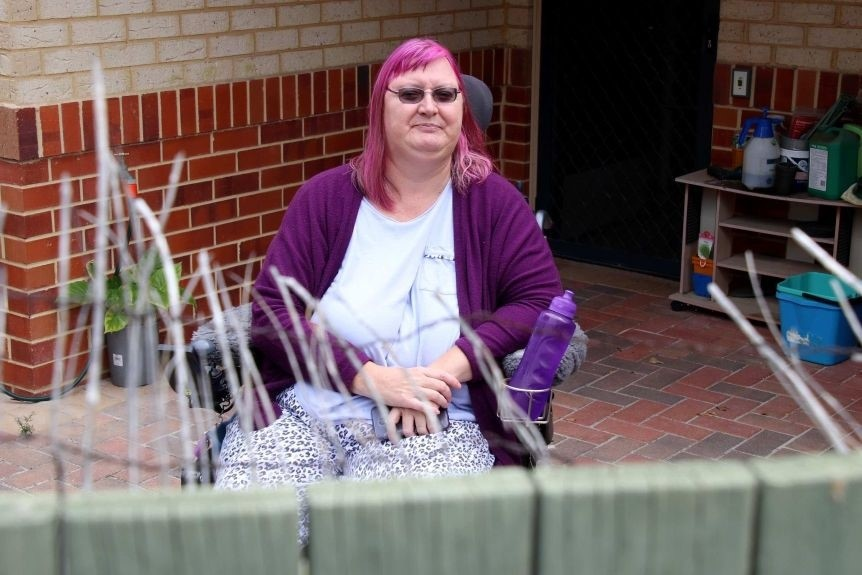face_no_mask: (375, 36, 467, 162)
